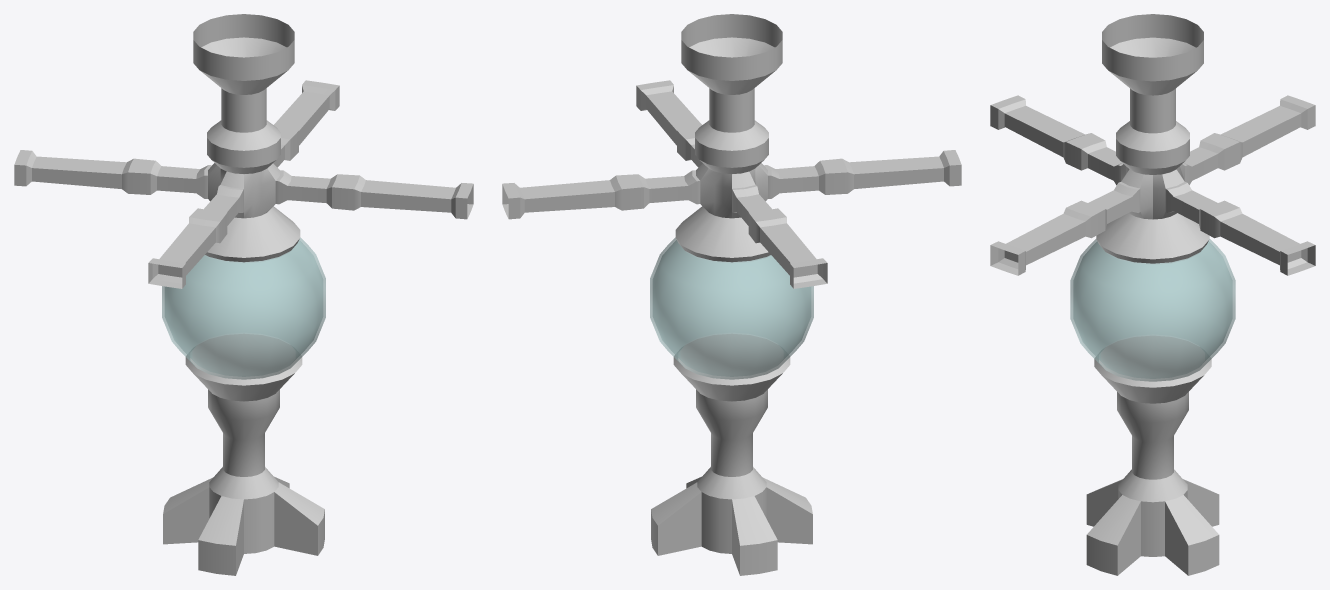
Rendered from boss_models.fbx.
3 views of the same model, side by side, from view 1: azimuth 30°, elevation 25°; view 2: azimuth 150°, elevation 25°; view 3: azimuth 270°, elevation 25° (orthographic).
Parts seen in each view (by area): view 1: boss_energy_top, boss_energy_base, boss_energy_shield, boss_energy_arm_02, boss_energy_arm_04, boss_energy_arm_03, boss_energy_arm_01; view 2: boss_energy_top, boss_energy_base, boss_energy_shield, boss_energy_arm_01, boss_energy_arm_03, boss_energy_arm_04, boss_energy_arm_02; view 3: boss_energy_top, boss_energy_base, boss_energy_shield, boss_energy_arm_01, boss_energy_arm_02, boss_energy_arm_03, boss_energy_arm_04.
Boxes of the visible parts, left/top/right/bottom form: boss_energy_top: left=14, top=14, right=473, bottom=288; boss_energy_base: left=163, top=334, right=324, bottom=575; boss_energy_shield: left=162, top=237, right=325, bottom=379; boss_energy_arm_02: left=361, top=180, right=455, bottom=212; boss_energy_arm_04: left=32, top=156, right=126, bottom=188; boss_energy_arm_03: left=159, top=223, right=215, bottom=275; boss_energy_arm_01: left=274, top=91, right=329, bottom=145; boss_energy_top: left=502, top=14, right=961, bottom=288; boss_energy_base: left=651, top=334, right=812, bottom=575; boss_energy_shield: left=650, top=237, right=813, bottom=379; boss_energy_arm_01: left=520, top=180, right=614, bottom=212; boss_energy_arm_03: left=849, top=156, right=943, bottom=188; boss_energy_arm_04: left=760, top=223, right=816, bottom=275; boss_energy_arm_02: left=646, top=91, right=701, bottom=145; boss_energy_top: left=990, top=14, right=1315, bottom=275; boss_energy_base: left=1086, top=336, right=1219, bottom=575; boss_energy_shield: left=1070, top=239, right=1235, bottom=381; boss_energy_arm_01: left=1220, top=213, right=1299, bottom=265; boss_energy_arm_02: left=1006, top=213, right=1085, bottom=265; boss_energy_arm_03: left=1004, top=106, right=1084, bottom=156; boss_energy_arm_04: left=1221, top=106, right=1301, bottom=156.
Bounding box in the file's own units: 35.89 × 53.37 × 30.89.
